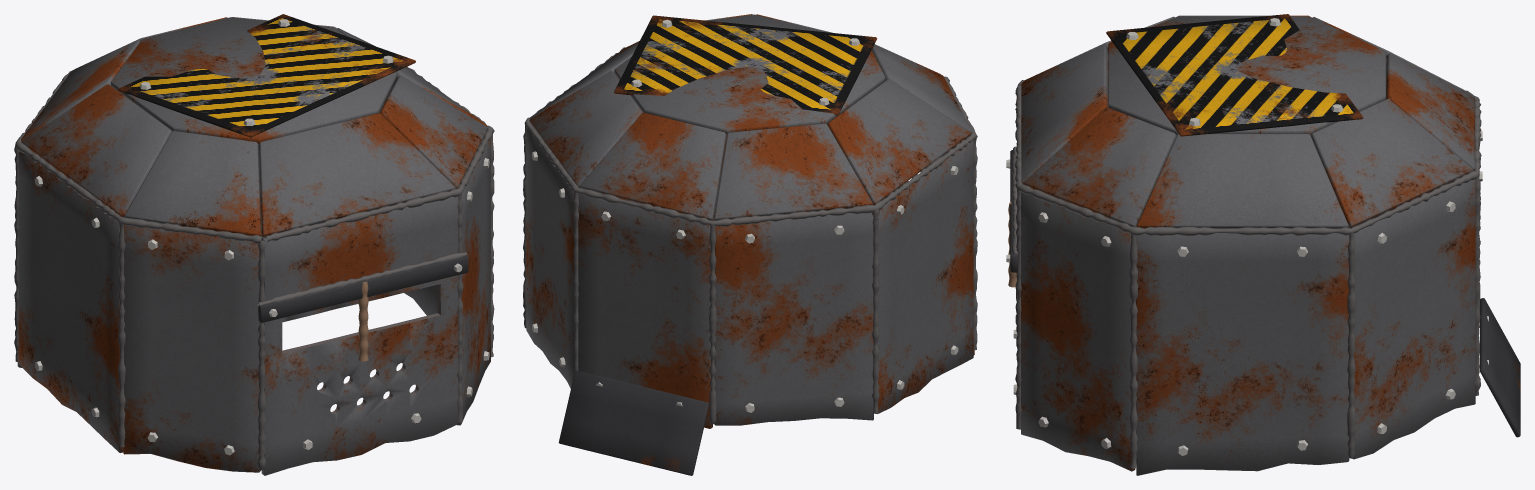
File: ScrapHelm.fbx
3 renders of one model, left to right at view 1: azimuth 30°, elevation 25°; view 2: azimuth 150°, elevation 25°; view 3: azimuth 270°, elevation 25°, orthographic. The views are drawn at different scales.
Visible parts, largest first — view 1: Plate_Front, Plate_Front_R, Plate_Side_R, Road_Sign, Chamfer_Front, Lid_Top, Chamfer_Front_R, Chamfer_Side_R, Plate_Front_L, Chamfer_Front_L, Weld_Lid_Ring, Brow_Bar (+10 smaller); view 2: Plate_Back_R, Plate_Back, Plate_Side_R, Road_Sign, Chamfer_Back_R, Neck_Guard, Chamfer_Back, Plate_Back_L, Chamfer_Side_R, Lid_Top, Chamfer_Back_L, Weld_Lid_Ring (+7 smaller); view 3: Plate_Side_L, Plate_Back_L, Plate_Front_L, Road_Sign, Chamfer_Side_L, Lid_Top, Chamfer_Back_L, Chamfer_Front_L, Chamfer_Front, Chamfer_Back, Weld_Lid_Ring, Neck_Guard (+4 smaller).
Part boxes in pixels (<box>): Plate_Front: <box>261,196,458,475</box>; Plate_Front_R: <box>123,225,260,472</box>; Plate_Side_R: <box>18,151,123,452</box>; Road_Sign: <box>117,14,415,137</box>; Chamfer_Front: <box>259,113,455,236</box>; Lid_Top: <box>111,17,396,143</box>; Chamfer_Front_R: <box>124,130,261,236</box>; Chamfer_Side_R: <box>21,84,171,217</box>; Plate_Front_L: <box>457,137,491,425</box>; Chamfer_Front_L: <box>380,75,487,188</box>; Weld_Lid_Ring: <box>15,68,494,243</box>; Brow_Bar: <box>258,256,468,322</box>; Plate_Back_R: <box>714,213,873,425</box>; Plate_Back: <box>578,193,712,428</box>; Plate_Side_R: <box>876,140,973,413</box>; Road_Sign: <box>614,15,877,115</box>; Chamfer_Back_R: <box>714,123,872,220</box>; Neck_Guard: <box>558,370,709,475</box>; Chamfer_Back: <box>579,112,726,220</box>; Plate_Back_L: <box>526,125,574,388</box>; Chamfer_Side_R: <box>827,79,970,205</box>; Lid_Top: <box>614,14,885,133</box>; Chamfer_Back_L: <box>529,71,642,187</box>; Weld_Lid_Ring: <box>524,47,977,226</box>; Plate_Side_L: <box>1136,233,1349,475</box>; Plate_Back_L: <box>1352,179,1475,459</box>; Plate_Front_L: <box>1020,192,1135,471</box>; Road_Sign: <box>1106,14,1363,136</box>; Chamfer_Side_L: <box>1136,134,1348,228</box>; Lid_Top: <box>1108,16,1385,134</box>; Chamfer_Back_L: <box>1311,99,1473,227</box>; Chamfer_Front_L: <box>1023,107,1176,226</box>; Chamfer_Front: <box>1021,45,1107,184</box>; Chamfer_Back: <box>1386,53,1474,170</box>; Weld_Lid_Ring: <box>1015,80,1481,235</box>; Neck_Guard: <box>1480,298,1520,437</box>.
Size of the model in its own units: 43 by 35.11 by 48.29.
6 materials, 3 textured.
